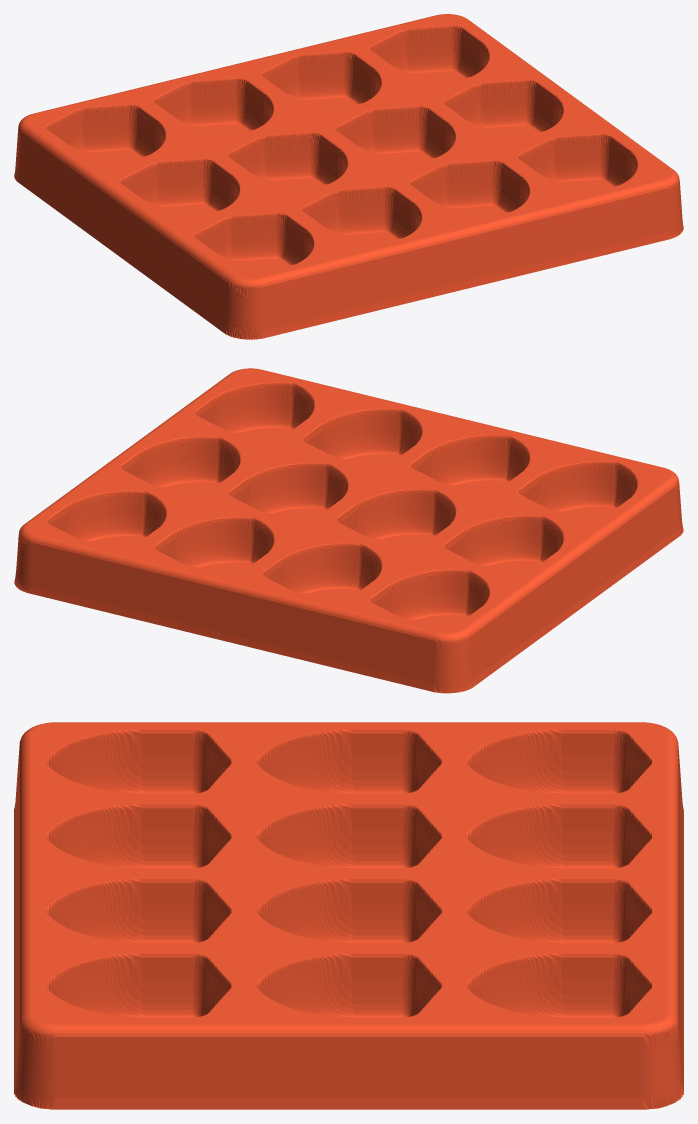
File: mold.glb
3 views of the same model, one above another, from view 1: azimuth 30°, elevation 25°; view 2: azimuth 150°, elevation 25°; view 3: azimuth 270°, elevation 25° (orthographic). The views are drawn at different scales.
Visible parts, largest first — view 1: geometry_0; view 2: geometry_0; view 3: geometry_0.
Part boxes in pixels (x1,y1,x2,y2): geometry_0: (14,14,683,339); geometry_0: (14,368,683,693); geometry_0: (14,722,683,1109).
Bounding box in the file's own units: 0.1569 × 0.0182 × 0.141.
